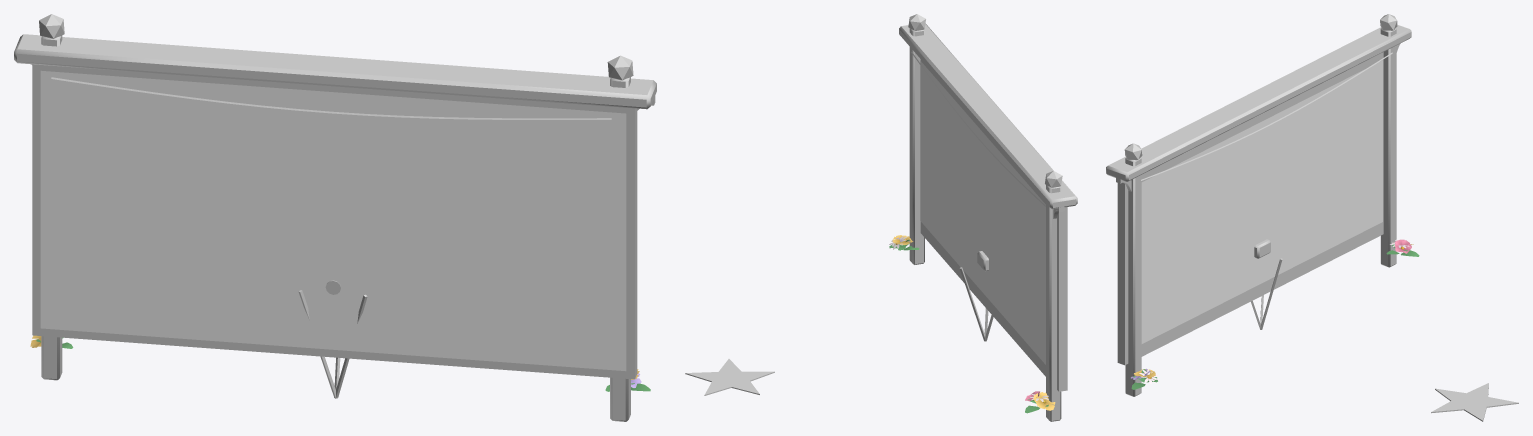
File: zon_diaryring_pinboard.glb
3 renders of one model, left to right at view 1: azimuth 30°, elevation 25°; view 2: azimuth 150°, elevation 25°; view 3: azimuth 270°, elevation 25°, orthographic. The views are drawn at different scales.
Parts seen in each view (by area): view 1: SCREEN_pinboard_mural__0, SM_zon_diaryring_pinboard_kit_diaryring_pinboard_xm1_z0, SM_bld_pinboard_tripod_legs__0; view 2: SCREEN_pinboard_board__0, SM_zon_diaryring_pinboard_kit_diaryring_pinboard_xm1_z0, SM_zon_diaryring_pinboard_vc_palette_xm1_z0, SM_bld_pinboard_tripod_legs__0; view 3: SCREEN_pinboard_board__0, SM_zon_diaryring_pinboard_kit_diaryring_pinboard_xm1_z0, SM_zon_diaryring_pinboard_vc_palette_xm1_z0, SM_bld_pinboard_tripod_legs__0.
Part boxes in pixels (x1,y1,x2,y2): SCREEN_pinboard_mural__0: (40,70,626,371); SM_zon_diaryring_pinboard_kit_diaryring_pinboard_xm1_z0: (14,14,656,421); SM_bld_pinboard_tripod_legs__0: (298,290,367,398); SCREEN_pinboard_board__0: (920,61,1045,364); SM_zon_diaryring_pinboard_kit_diaryring_pinboard_xm1_z0: (685,14,1077,421); SM_zon_diaryring_pinboard_vc_palette_xm1_z0: (889,235,1055,413); SM_bld_pinboard_tripod_legs__0: (959,267,993,341); SCREEN_pinboard_board__0: (1141,60,1382,343); SM_zon_diaryring_pinboard_kit_diaryring_pinboard_xm1_z0: (1106,14,1518,421); SM_zon_diaryring_pinboard_vc_palette_xm1_z0: (1131,239,1419,389); SM_bld_pinboard_tripod_legs__0: (1251,258,1282,329).
Size of the model in its own units: 6.77 by 4.65 by 6.94.
